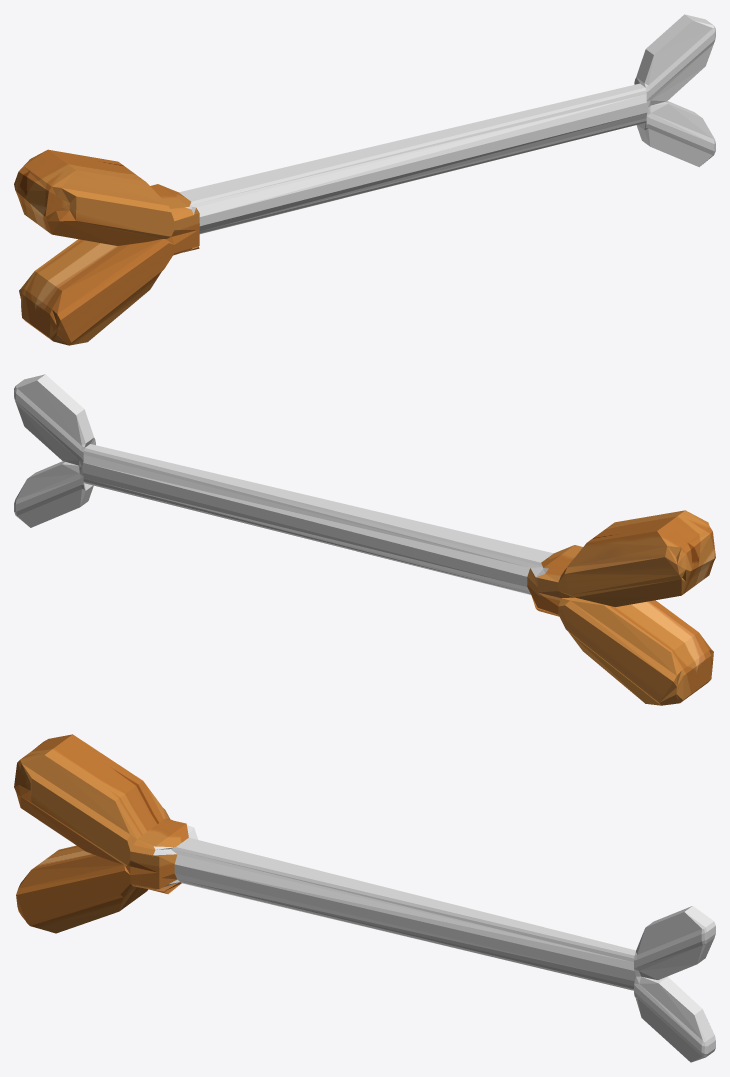
File: Bone with chicken.fbx
3 renders of one model, top to bottom at view 1: azimuth 30°, elevation 25°; view 2: azimuth 150°, elevation 25°; view 3: azimuth 330°, elevation 25°, orthographic.
Parts seen in each view (by area): view 1: pCube1; view 2: pCube1; view 3: pCube1.
Boxes of the visible parts, x1,y1,x2,y2 form: pCube1: (14, 14, 715, 345); pCube1: (14, 374, 715, 705); pCube1: (14, 734, 715, 1062).
Bounding box in the file's own units: 19.57 × 4.78 × 2.03.
